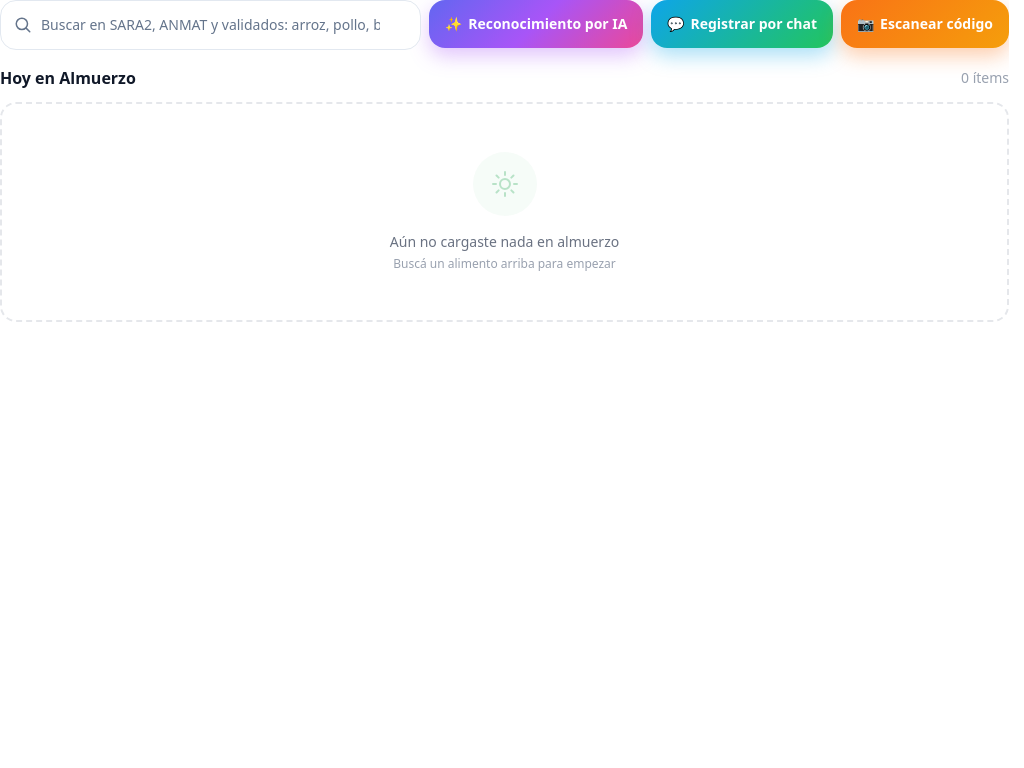
Buscador: alimentos VALIDADO (NUT-194) › sin alimentos validados en los resultados no aparece el chip (la barra queda como antes)
Step 1. Type "arroz" into the field → (211,25), box x1=0 y1=0 x2=421 y2=50
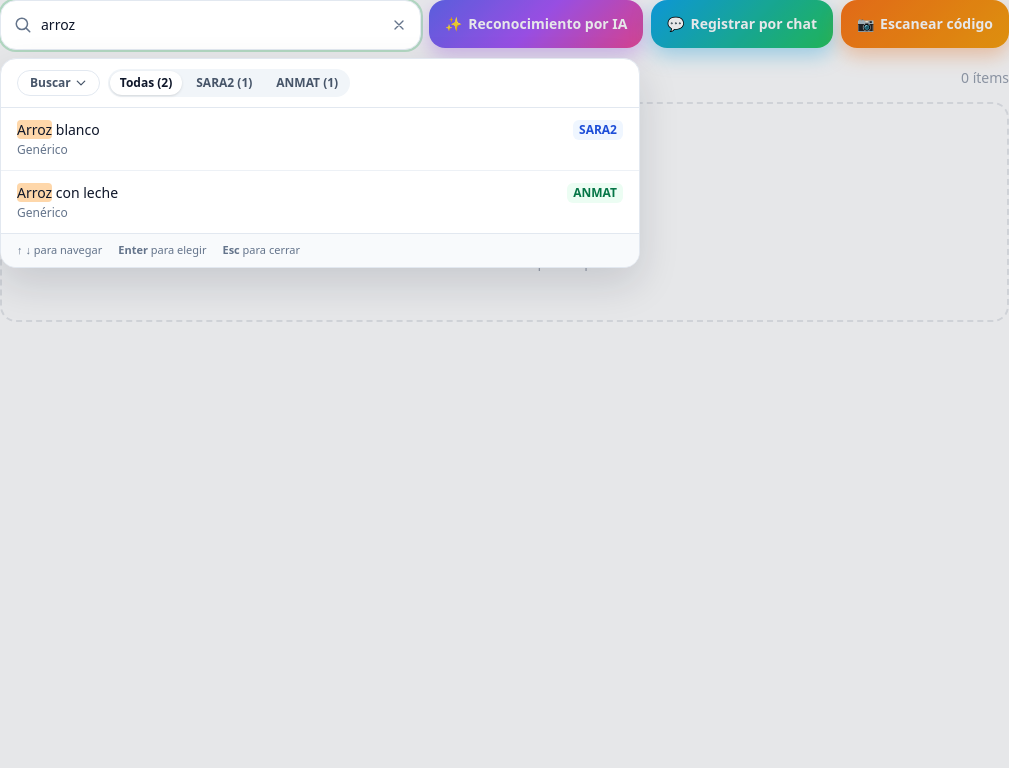
Result: the button "Todas (2)" is shown at x1=110 y1=71 x2=182 y2=95
Result: the button "SARA2 (1)" is shown at x1=186 y1=71 x2=262 y2=95
Result: the button "ANMAT (1)" is shown at x1=266 y1=71 x2=348 y2=95
